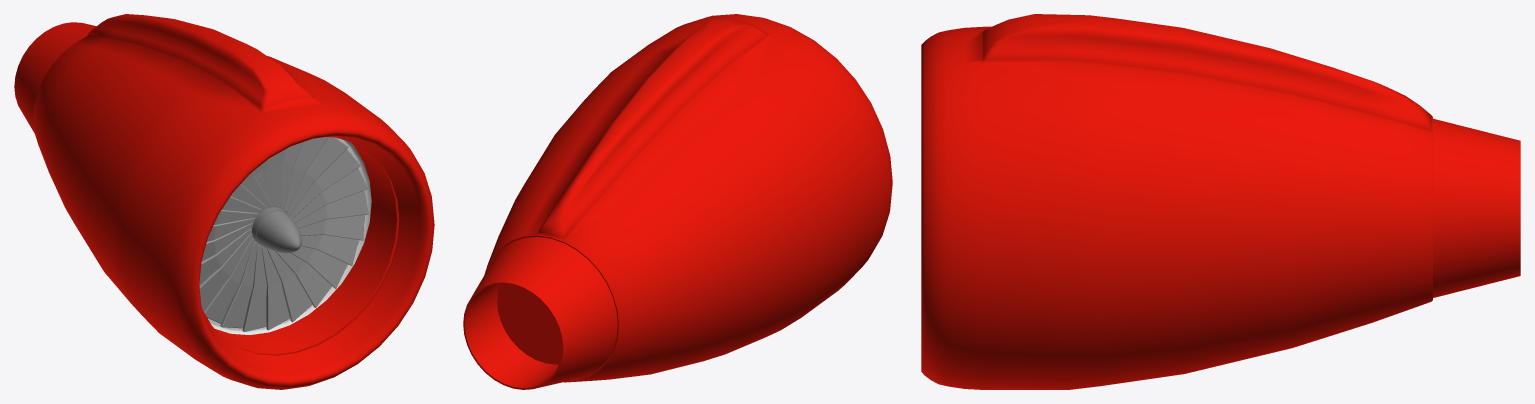
The model's file is modelo.glb.
The picture shows the model from 3 angles, left to right: view 1: azimuth 30°, elevation 25°; view 2: azimuth 150°, elevation 25°; view 3: azimuth 270°, elevation 25°; orthographic projection. The views are drawn at different scales.
Visible parts, largest first — view 1: Carcaça, Hélices, Rolamento, Apoio; view 2: Carcaça; view 3: Carcaça.
Part boxes in pixels (<box>): Carcaça: <box>14,14,434,389</box>; Hélices: <box>199,137,368,331</box>; Rolamento: <box>252,207,301,253</box>; Apoio: <box>208,138,371,334</box>; Carcaça: <box>463,14,892,389</box>; Carcaça: <box>921,14,1520,389</box>.
Bounding box in the file's own units: 2.22 × 2.38 × 3.67.
